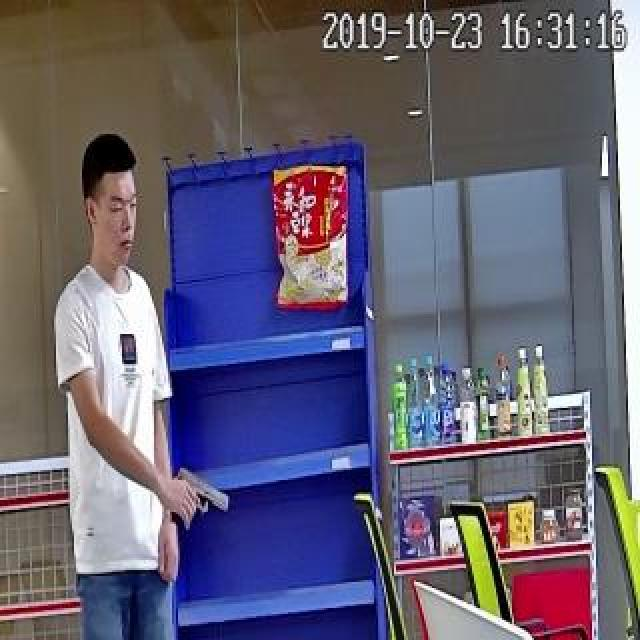Guns: (164, 455, 240, 536)
